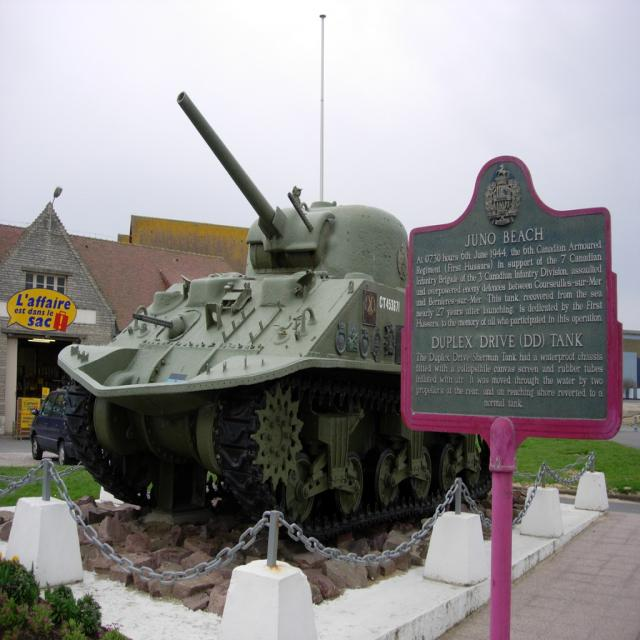tank: (56, 13, 495, 544)
